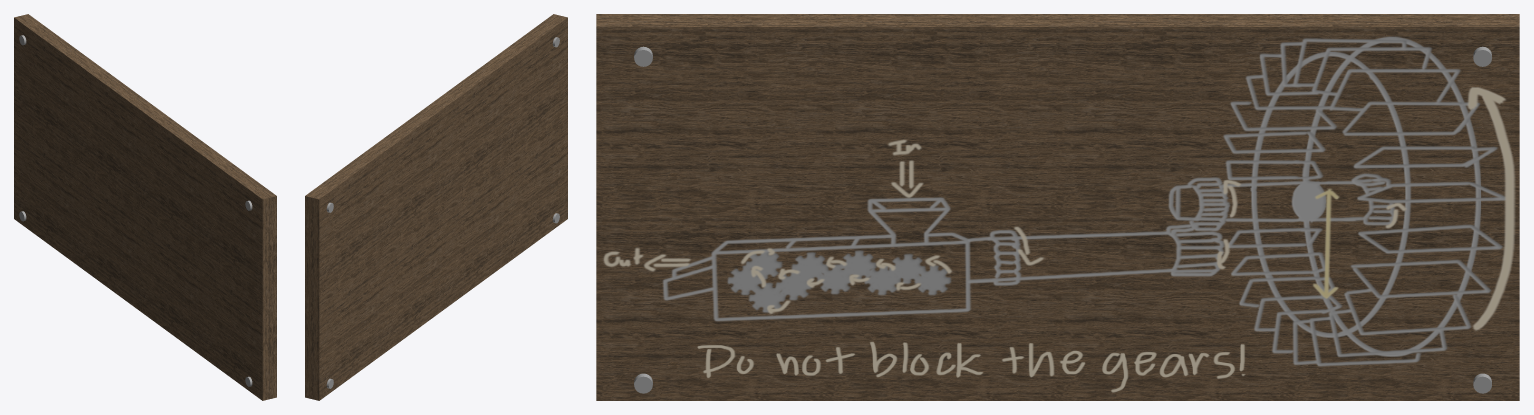
File: Watermill_MainPanel.fbx
The picture shows the model from 3 angles, left to right: view 1: azimuth 30°, elevation 25°; view 2: azimuth 150°, elevation 25°; view 3: azimuth 270°, elevation 25°; orthographic projection. The views are drawn at different scales.
Visible parts, largest first — view 1: WaterMill_MainPanel; view 2: WaterMill_MainPanel; view 3: WaterMill_MainPanel.
Part boxes in pixels (box(x1,y1,x2,y2)): WaterMill_MainPanel: box(14, 14, 276, 400); WaterMill_MainPanel: box(305, 14, 567, 400); WaterMill_MainPanel: box(596, 14, 1519, 400).
Bounding box in the file's own units: 1.39 × 13.43 × 30.04.
Materials: 2 (1 with a texture image).
